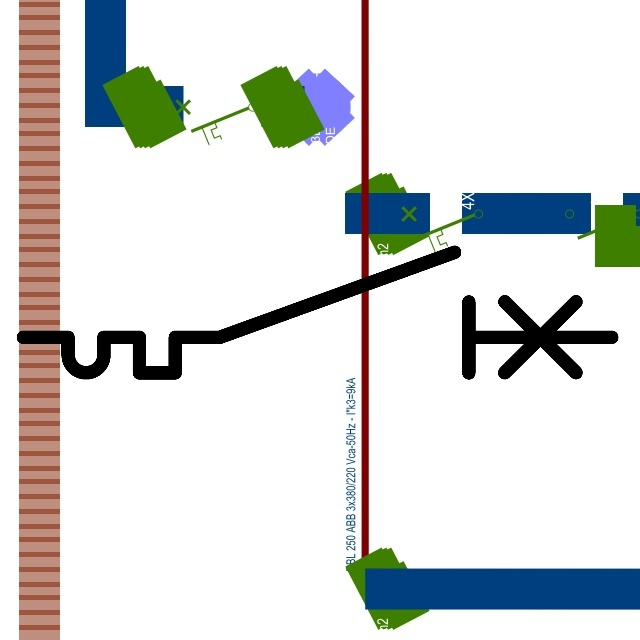interruptor_termomagnetico: (8, 237, 626, 388)
